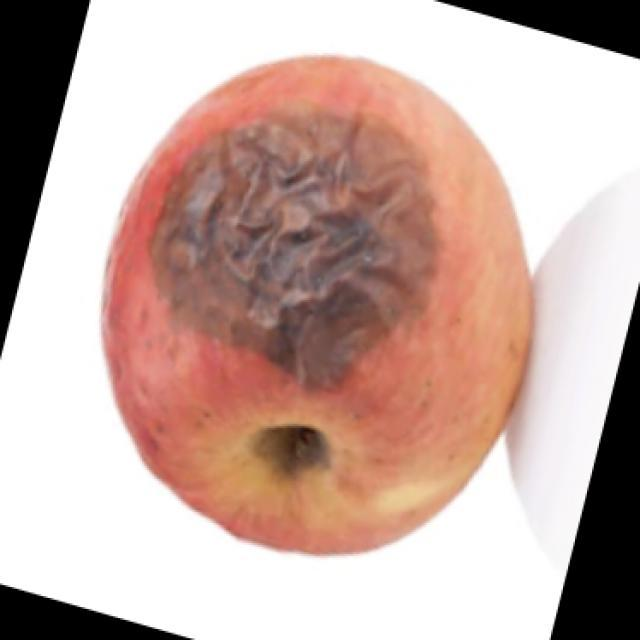Rotten: (128, 64, 532, 578)
